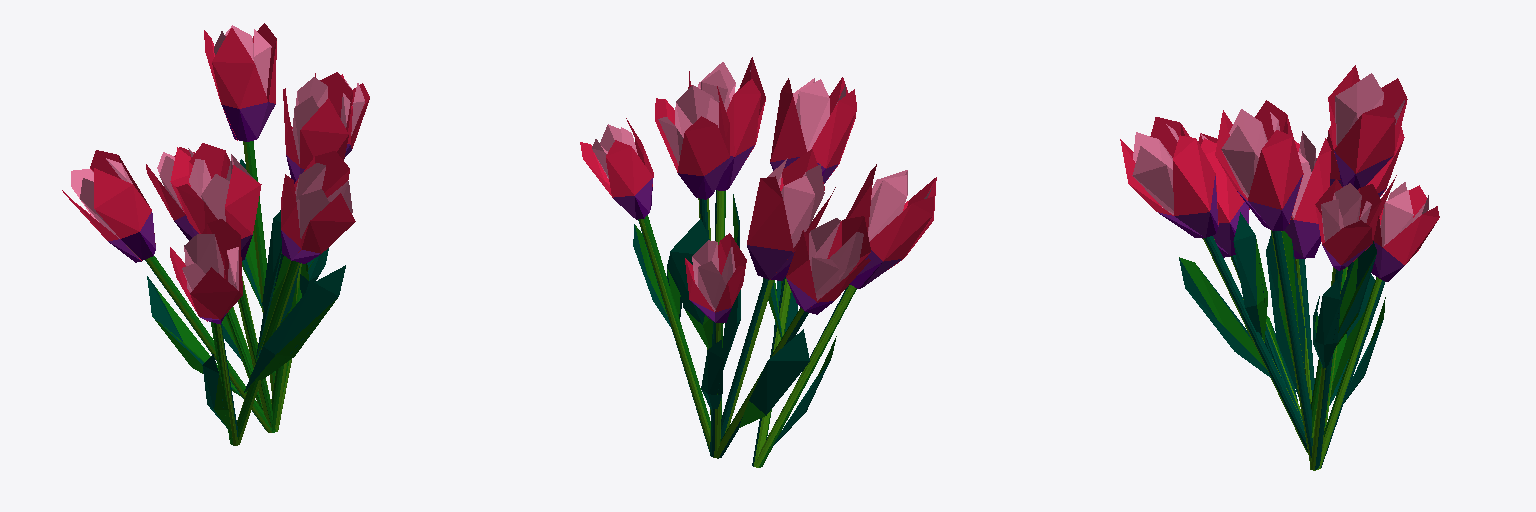
3 renders of one model, left to right at view 1: azimuth 30°, elevation 25°; view 2: azimuth 150°, elevation 25°; view 3: azimuth 270°, elevation 25°, orthographic.
Parts seen in each view (by area): view 1: group[number redacted], group[number redacted], group[number redacted], group[number redacted], group[number redacted], group[number redacted], group[number redacted], group[number redacted], group[number redacted], group[number redacted], group[number redacted], group[number redacted] (+23 smaller); view 2: group[number redacted], group[number redacted], group[number redacted], group[number redacted], group[number redacted], group[number redacted], group[number redacted], group[number redacted], group[number redacted], group[number redacted], group[number redacted], group[number redacted] (+24 smaller); view 3: group[number redacted], group[number redacted], group[number redacted], group[number redacted], group[number redacted], group[number redacted], group[number redacted], group[number redacted], group[number redacted], group[number redacted], group[number redacted], group[number redacted] (+14 smaller).
Boxes of the visible parts, box(x1,y1,x2,y2) form: group[number redacted]: box(204, 23, 276, 141); group[number redacted]: box(283, 72, 352, 183); group[number redacted]: box(244, 265, 345, 392); group[number redacted]: box(94, 168, 155, 260); group[number redacted]: box(292, 193, 355, 263); group[number redacted]: box(225, 165, 261, 260); group[number redacted]: box(147, 276, 241, 396); group[number redacted]: box(190, 267, 242, 324); group[number redacted]: box(145, 256, 274, 432); group[number redacted]: box(237, 261, 299, 445); group[number redacted]: box(281, 174, 301, 260); group[number redacted]: box(243, 141, 275, 394); group[number redacted]: box(655, 85, 729, 199); group[number redacted]: box(580, 118, 653, 219); group[number redacted]: box(688, 57, 765, 190); group[number redacted]: box(747, 176, 793, 279); group[number redacted]: box(850, 196, 933, 288); group[number redacted]: box(739, 329, 809, 427); group[number redacted]: box(638, 215, 710, 451); group[number redacted]: box(812, 89, 856, 183); group[number redacted]: box(670, 219, 712, 348); group[number redacted]: box(755, 284, 856, 467); group[number redacted]: box(770, 78, 806, 170); group[number redacted]: box(721, 278, 773, 438); group[number redacted]: box(1215, 100, 1303, 230); group[number redacted]: box(1328, 65, 1407, 189); group[number redacted]: box(1315, 179, 1381, 270); group[number redacted]: box(1173, 135, 1218, 237); group[number redacted]: box(1179, 257, 1288, 390); group[number redacted]: box(1233, 212, 1267, 341); group[number redacted]: box(1266, 231, 1304, 396); group[number redacted]: box(1271, 230, 1312, 464); group[number redacted]: box(1203, 236, 1307, 452); group[number redacted]: box(1294, 138, 1331, 258); group[number redacted]: box(1201, 138, 1248, 255); group[number redacted]: box(1380, 206, 1439, 281).
Bounding box in the file's own units: 0.9708 × 1.25 × 0.9118.